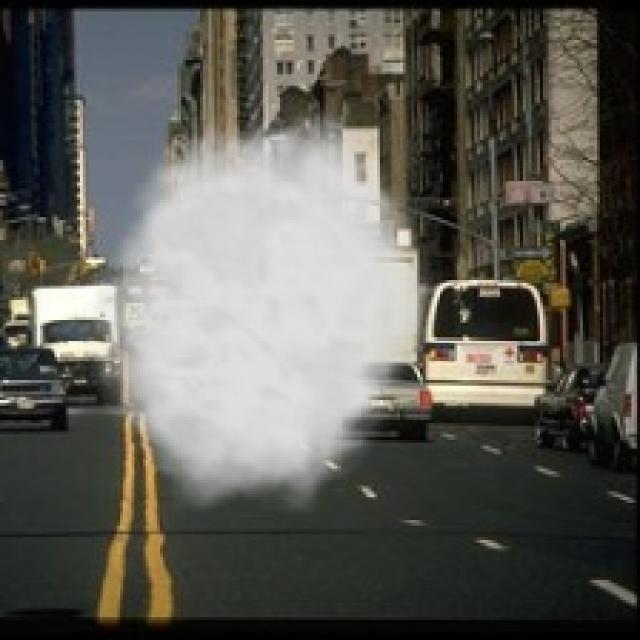Smoke: (74, 97, 440, 514)
